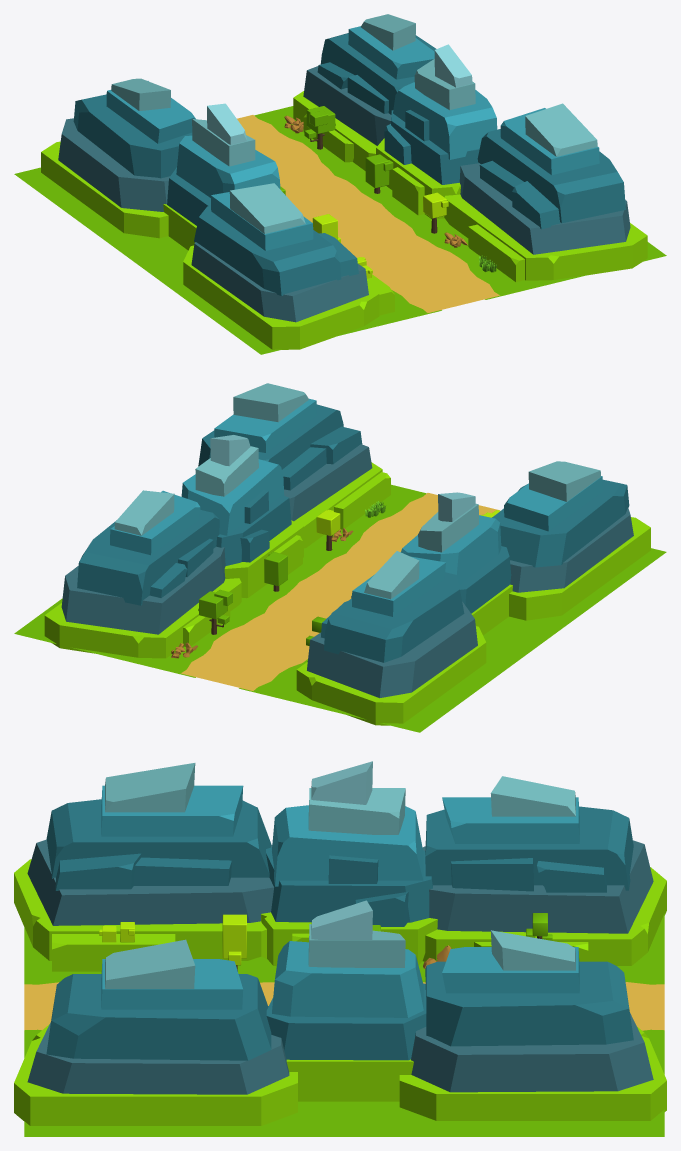
The model's file is map.fbx.
3 views of the same model, one above another, from view 1: azimuth 30°, elevation 25°; view 2: azimuth 150°, elevation 25°; view 3: azimuth 270°, elevation 25° (orthographic). The views are drawn at different scales.
Parts seen in each view (by area): view 1: Cube.007, Cube.014, Cube.006, Plane.001, Plane.003, Cube.008, Cube.011, Cube.018, Cube.002, Cube.010, Cube.009; view 2: Cube.011, Cube.006, Cube.014, Cube.007, Plane.003, Plane.001, Cube.008, Cube.018, Cube.002, Cube.010, Cube.009; view 3: Cube.007, Cube.011, Cube.014, Cube.006, Cube.008, Cube.018, Plane.003, Plane.001, Cube.001.
Boxes of the visible parts, box(x1,y1,x2,y2) form: Cube.007: box(444, 103, 647, 282); Cube.014: box(183, 183, 394, 349); Cube.006: box(41, 78, 195, 238); Plane.001: box(237, 115, 499, 312); Plane.003: box(14, 106, 666, 354); Cube.008: box(376, 44, 497, 218); Cube.011: box(293, 14, 436, 170); Cube.018: box(163, 103, 285, 250); Cube.002: box(304, 106, 335, 149); Cube.010: box(365, 154, 393, 193); Cube.009: box(423, 192, 448, 233); Cube.011: box(44, 490, 241, 658); Cube.006: box(296, 551, 486, 725); Cube.014: box(492, 461, 650, 620); Cube.007: box(198, 383, 390, 548); Plane.003: box(14, 484, 666, 732); Plane.001: box(181, 493, 499, 690); Cube.008: box(181, 435, 303, 598); Cube.018: box(401, 492, 512, 635); Cube.002: box(198, 589, 232, 634); Cube.010: box(264, 551, 287, 591); Cube.009: box(316, 509, 340, 550); Cube.007: box(14, 939, 297, 1125); Cube.011: box(399, 930, 666, 1120); Cube.014: box(14, 763, 273, 971); Cube.006: box(422, 776, 666, 965); Cube.008: box(266, 900, 426, 1101); Cube.018: box(261, 761, 437, 965); Plane.003: box(24, 913, 664, 1136); Plane.001: box(24, 982, 664, 1030); Cube.001: box(222, 914, 246, 971).
Bounding box in the file's own units: 7589 × 2473 × 8157.
1 material, 1 textured.
